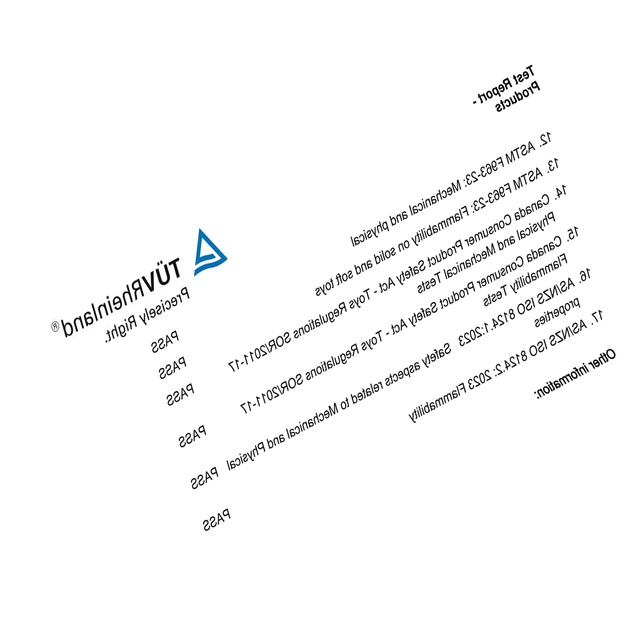tuv_rheinland: (48, 224, 229, 343)
